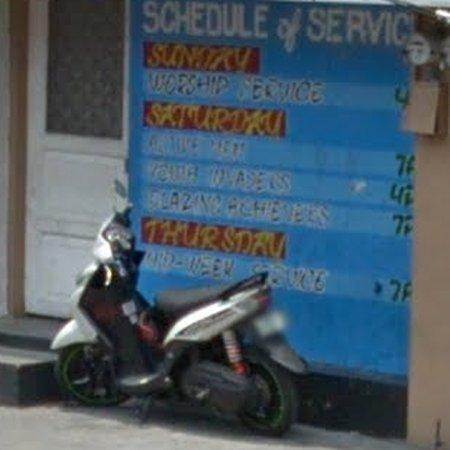motorcycles: (51, 182, 293, 436)
